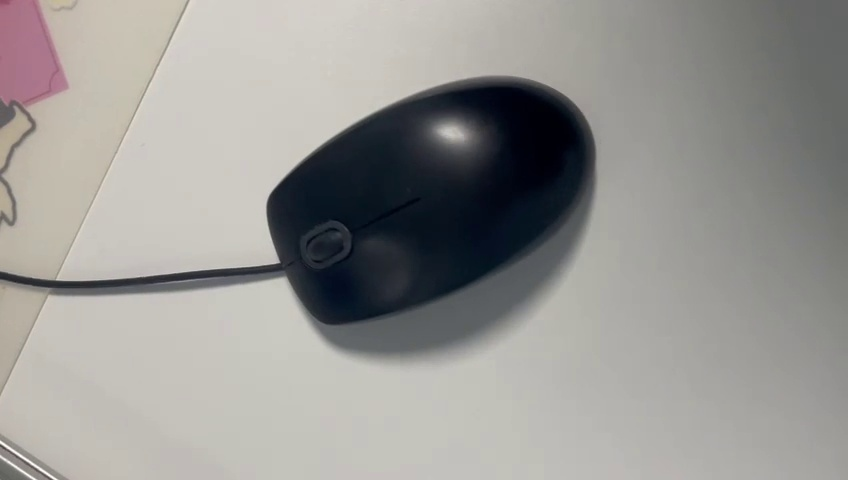objeto: (256, 71, 610, 339)
